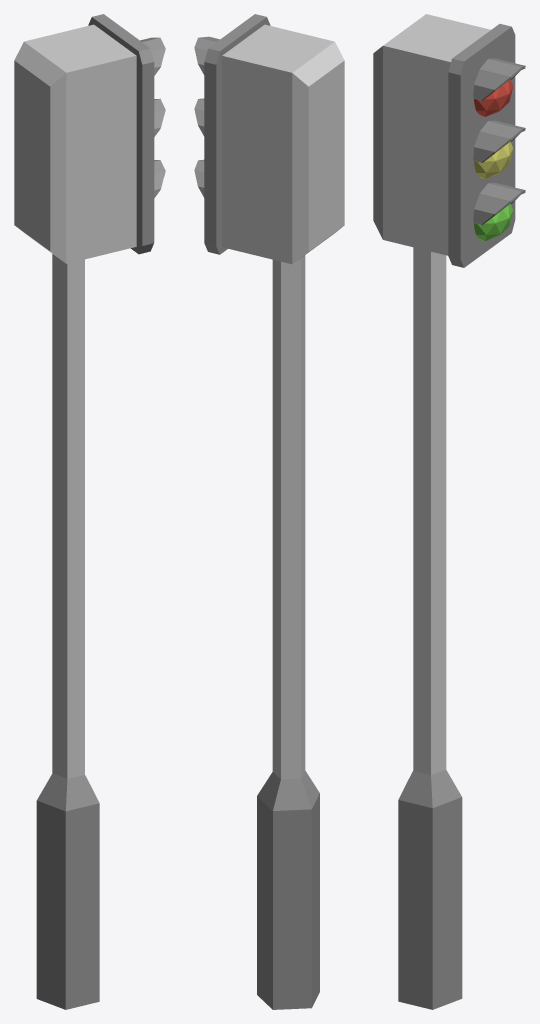
The model's file is TrafficLight.glb.
3 renders of one model, left to right at view 1: azimuth 30°, elevation 25°; view 2: azimuth 150°, elevation 25°; view 3: azimuth 330°, elevation 25°, orthographic.
Visible parts, largest first — view 1: TrafficLight.obj; view 2: TrafficLight.obj; view 3: TrafficLight.obj.
Part boxes in pixels (bbox=[...]): TrafficLight.obj: bbox=[14, 14, 165, 1009]; TrafficLight.obj: bbox=[194, 14, 344, 1009]; TrafficLight.obj: bbox=[373, 14, 525, 1009].
Size of the model in its own units: 0.123 by 0.8709 by 0.0896.
